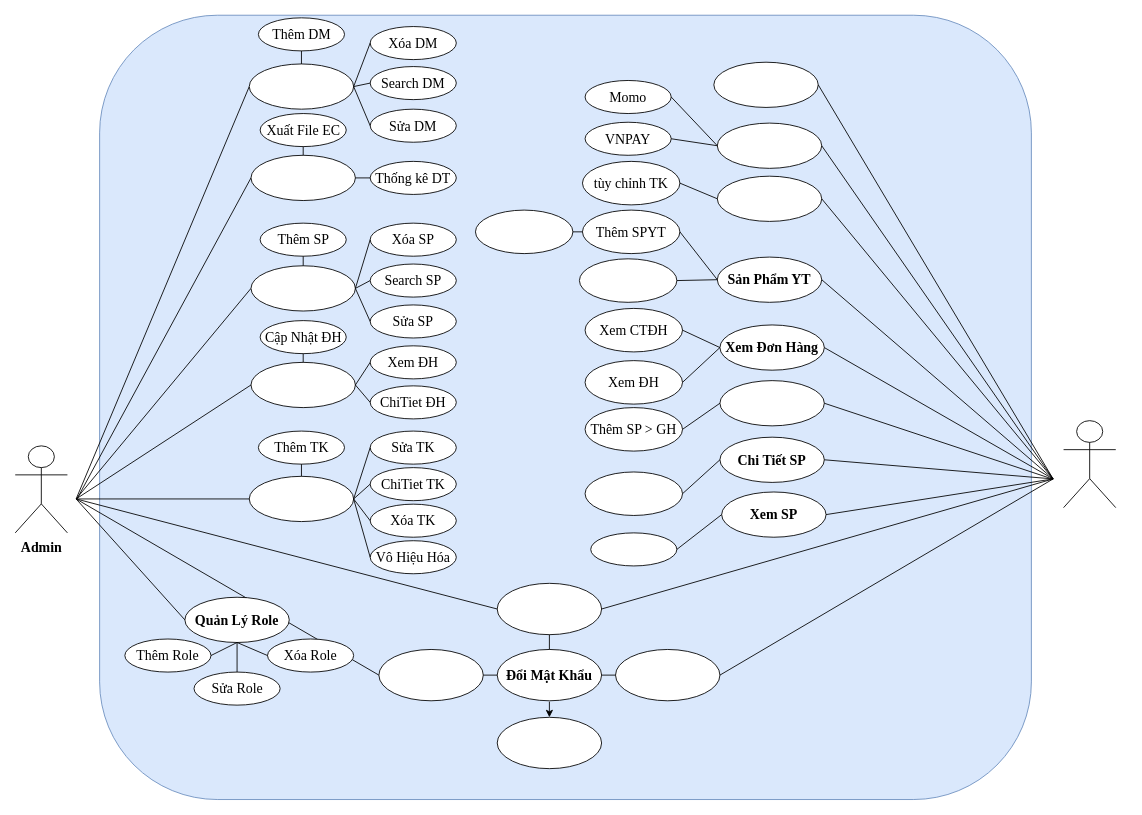
The diagram is 1142 pixels wide and 815 high, and some of its shapes have lost their labels. The shapes that lost their labels are listed below. From the top down, each one's centre as x and y in pixels, then its label:
At point (301, 86): "QL Danh Mục".
At point (765, 84): "Tìm Kiếm SP".
At point (769, 145): "Thanh Toán".
At point (302, 177): "Thống Kê".
At point (769, 198): "Chỉnh Sửa TTCN".
At point (524, 231): "Thêm SL SPYT".
At point (302, 288): "QL Sản Phẩm".
At point (628, 280): "Xóa SPYT".
At point (302, 384): "QL Đơn Hàng".
At point (771, 403): "Thêm Giỏ Hàng".
At point (1089, 464): "Khách Hàng".
At point (301, 498): "Quản Lý Người Dùng".
At point (633, 493): "Xem CT từng SP".
At point (633, 549): "Xem tất cả SP".
At point (549, 608): "Đăng Nhập".
At point (430, 675): "Đăng Ký".
At point (667, 675): "Quên Mật Khẩu".
At point (549, 742): "Google".
